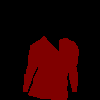maglia: (22, 35, 79, 100)
